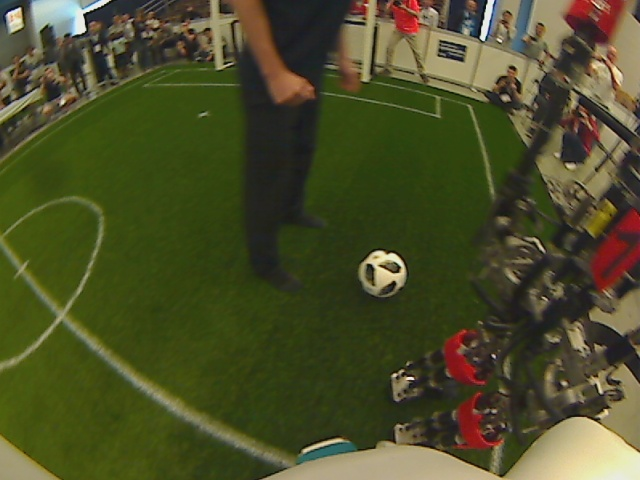ball: (358, 248, 408, 297)
